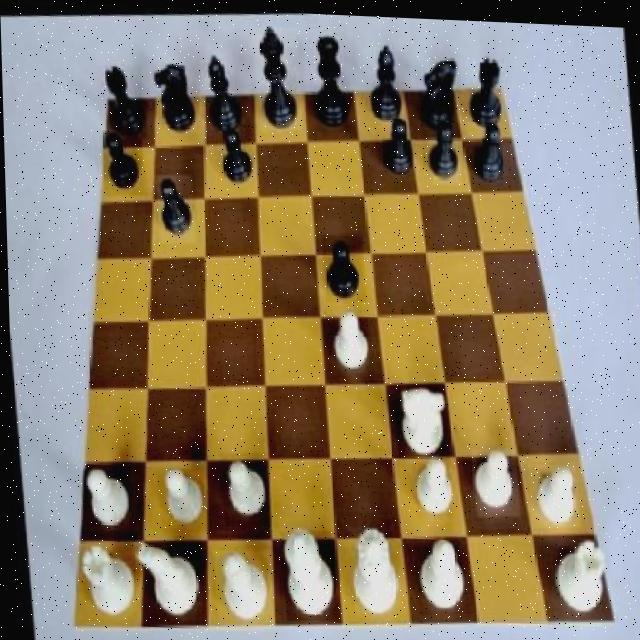bishop: (202, 48, 246, 132), (362, 43, 407, 119)
black-bishop: (251, 23, 303, 129)
black-king: (414, 45, 466, 136), (151, 61, 197, 138)
black-knight: (320, 229, 365, 301), (100, 129, 146, 197), (154, 173, 195, 244), (465, 110, 507, 179), (217, 120, 255, 193), (425, 107, 459, 181), (381, 110, 416, 179)
black-pawn: (306, 29, 352, 131)
black-queen: (463, 49, 512, 130), (104, 62, 146, 139)
black-rook: (410, 528, 468, 614), (211, 545, 271, 626)
white-bishop: (275, 525, 334, 620)
white-king: (133, 538, 202, 621), (389, 376, 447, 458)
white-knight: (216, 449, 269, 526), (153, 463, 208, 534), (77, 467, 135, 534), (526, 458, 578, 525), (469, 444, 518, 515), (328, 305, 372, 374), (410, 449, 450, 515)
white-pawn: (345, 521, 399, 619)
white-queen: (74, 536, 137, 626), (548, 523, 611, 611)
